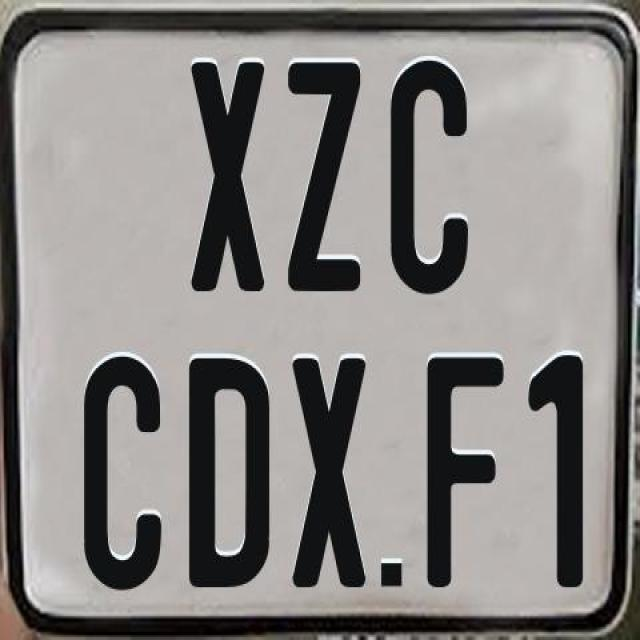1: (525, 352, 579, 587)
C: (389, 59, 471, 301), (83, 357, 161, 597)
D: (188, 359, 274, 594)
F: (423, 359, 501, 588)
X: (292, 354, 370, 584), (187, 62, 261, 300)
Z: (288, 58, 368, 293)
